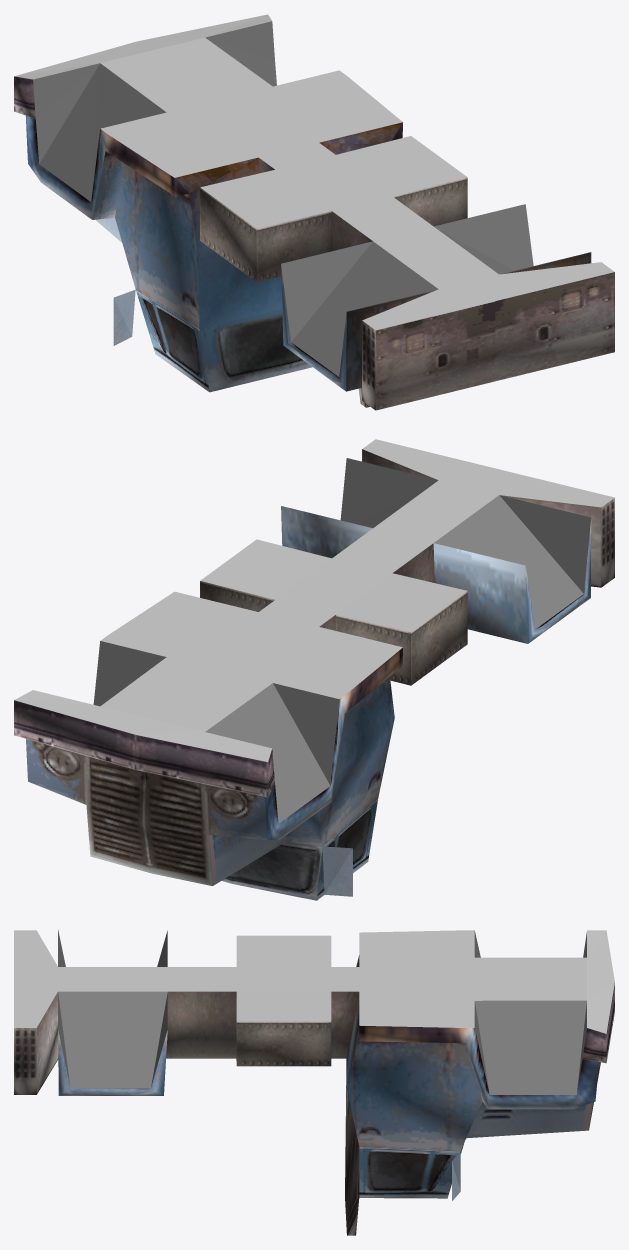
Rendered from RIO_model12_clean.obj.
The picture shows the model from 3 angles, top to bottom: view 1: azimuth 30°, elevation 25°; view 2: azimuth 150°, elevation 25°; view 3: azimuth 270°, elevation 25°; orthographic projection. The views are drawn at different scales.
Parts seen in each view (by area): view 1: RIO_model12_clean; view 2: RIO_model12_clean; view 3: RIO_model12_clean.
Part boxes in pixels (x1,y1,x2,y2): RIO_model12_clean: (14,14,614,410); RIO_model12_clean: (14,439,614,900); RIO_model12_clean: (14,929,614,1235).
Bounding box in the file's own units: 378 × 384 × 926.
